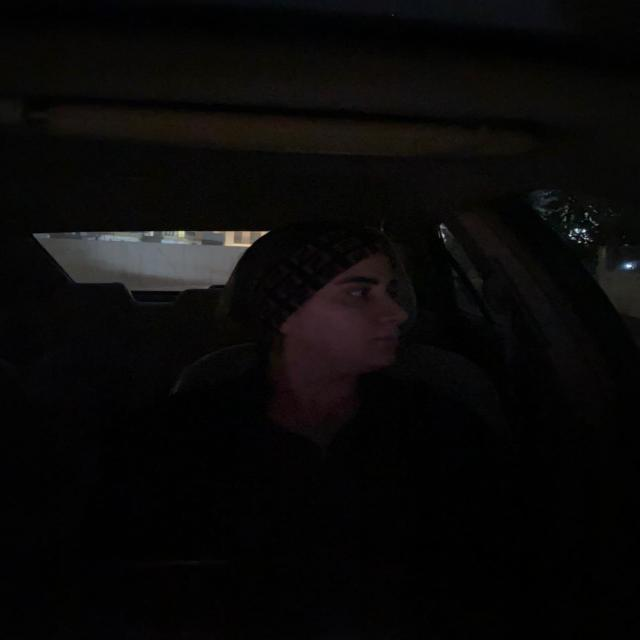LeftRight: (232, 210, 425, 408)
